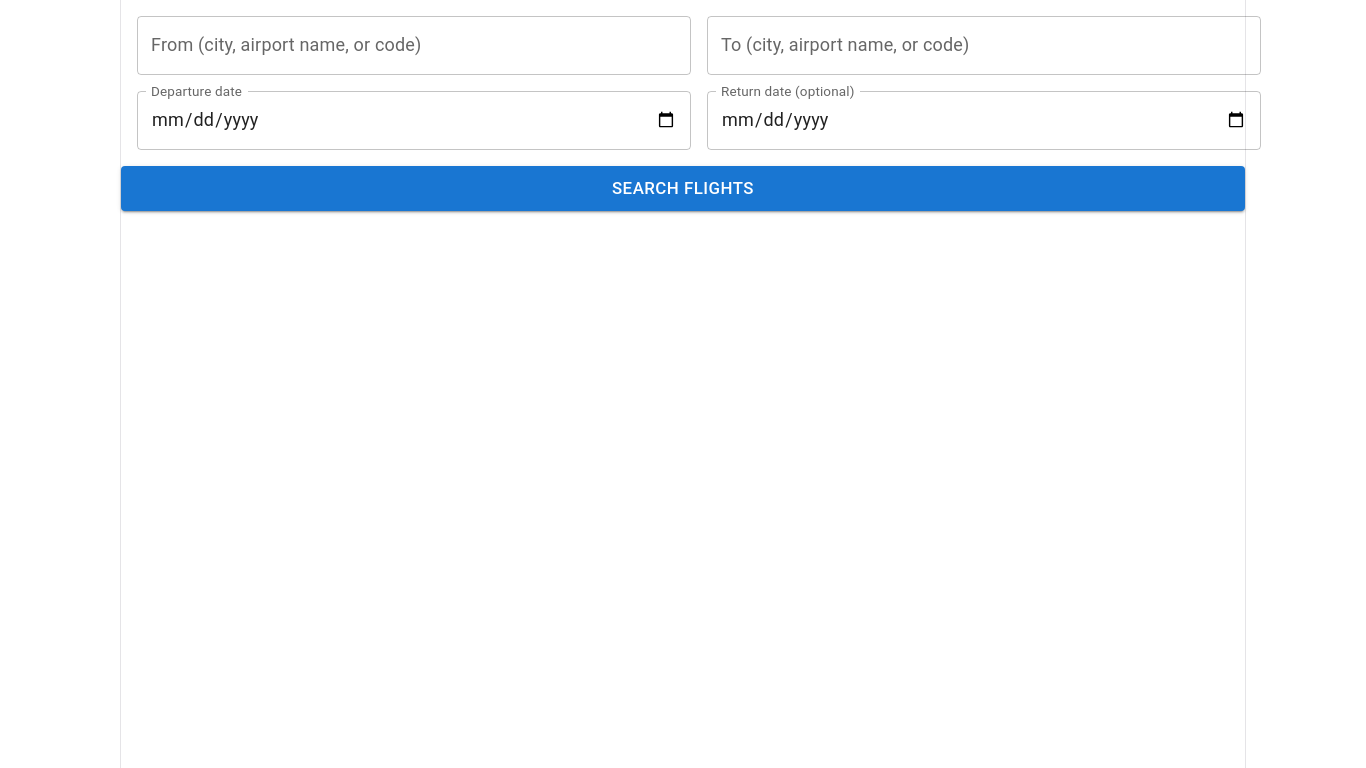
Test: SearchForm › shows a validation error and does not submit when required fields are empty
Step 1. Click the button "Search Flights" → (683, 189), box left=121, top=166, right=1245, bottom=211
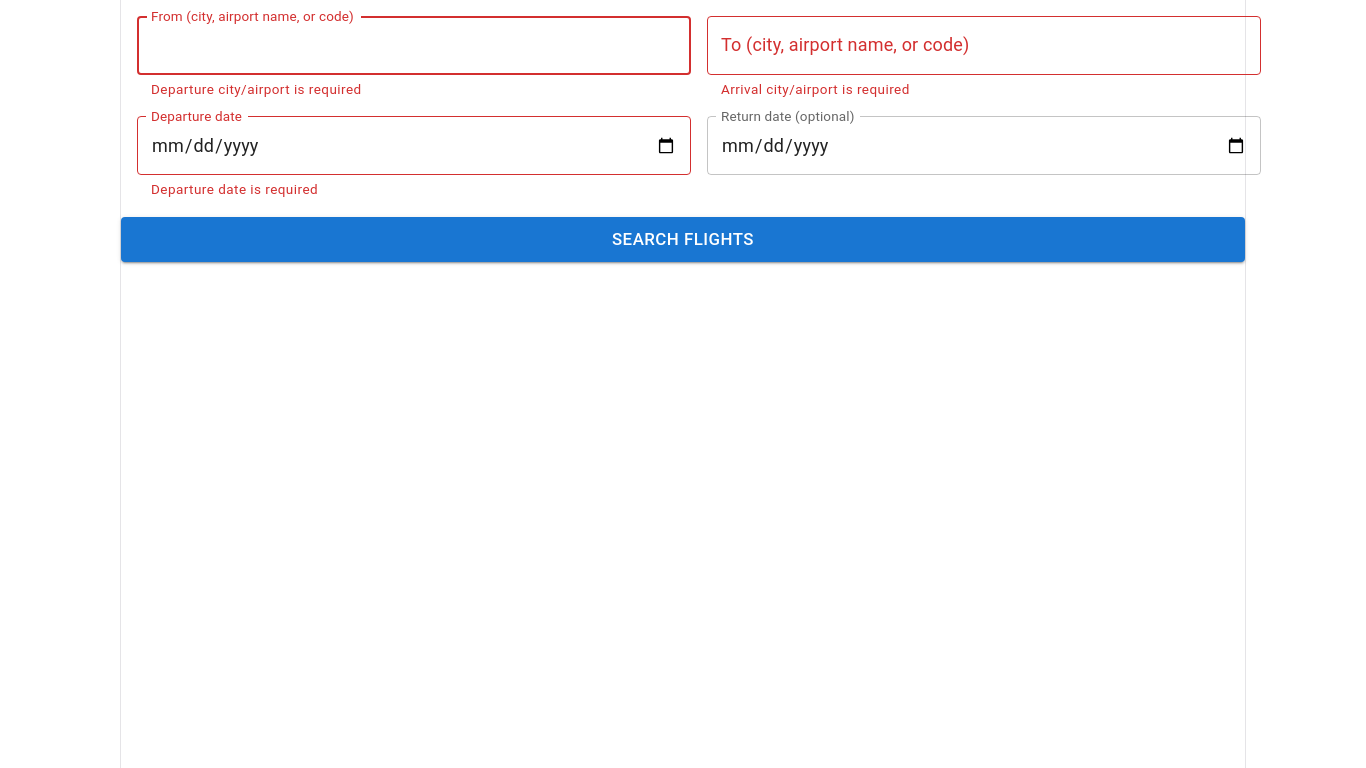
Expected: the text "Departure city/airport is required" is shown, left=151, top=81, right=362, bottom=97
